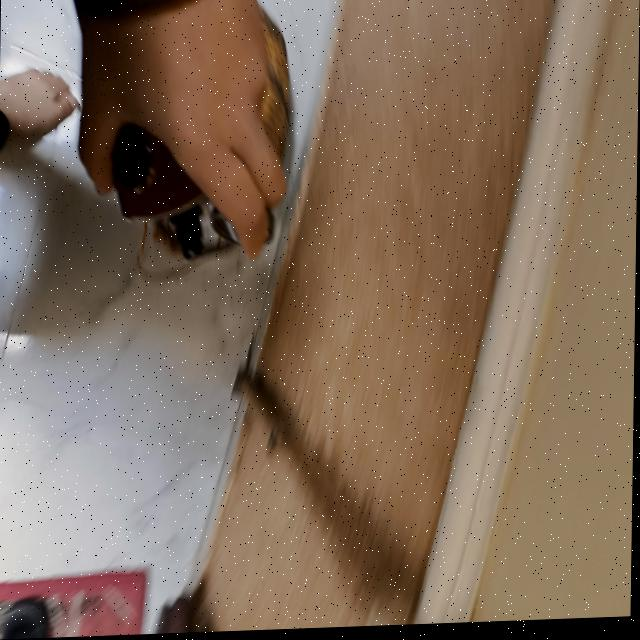Afnan: (108, 3, 294, 265), (109, 119, 245, 265), (167, 198, 277, 264)
